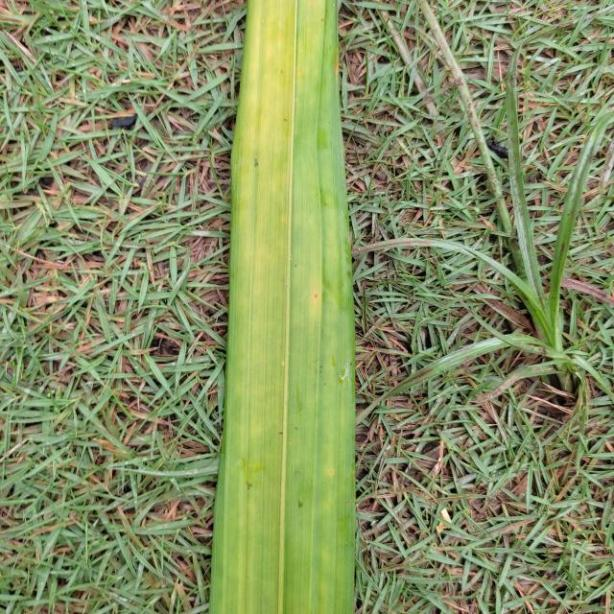nitrogen: (219, 0, 357, 614)
